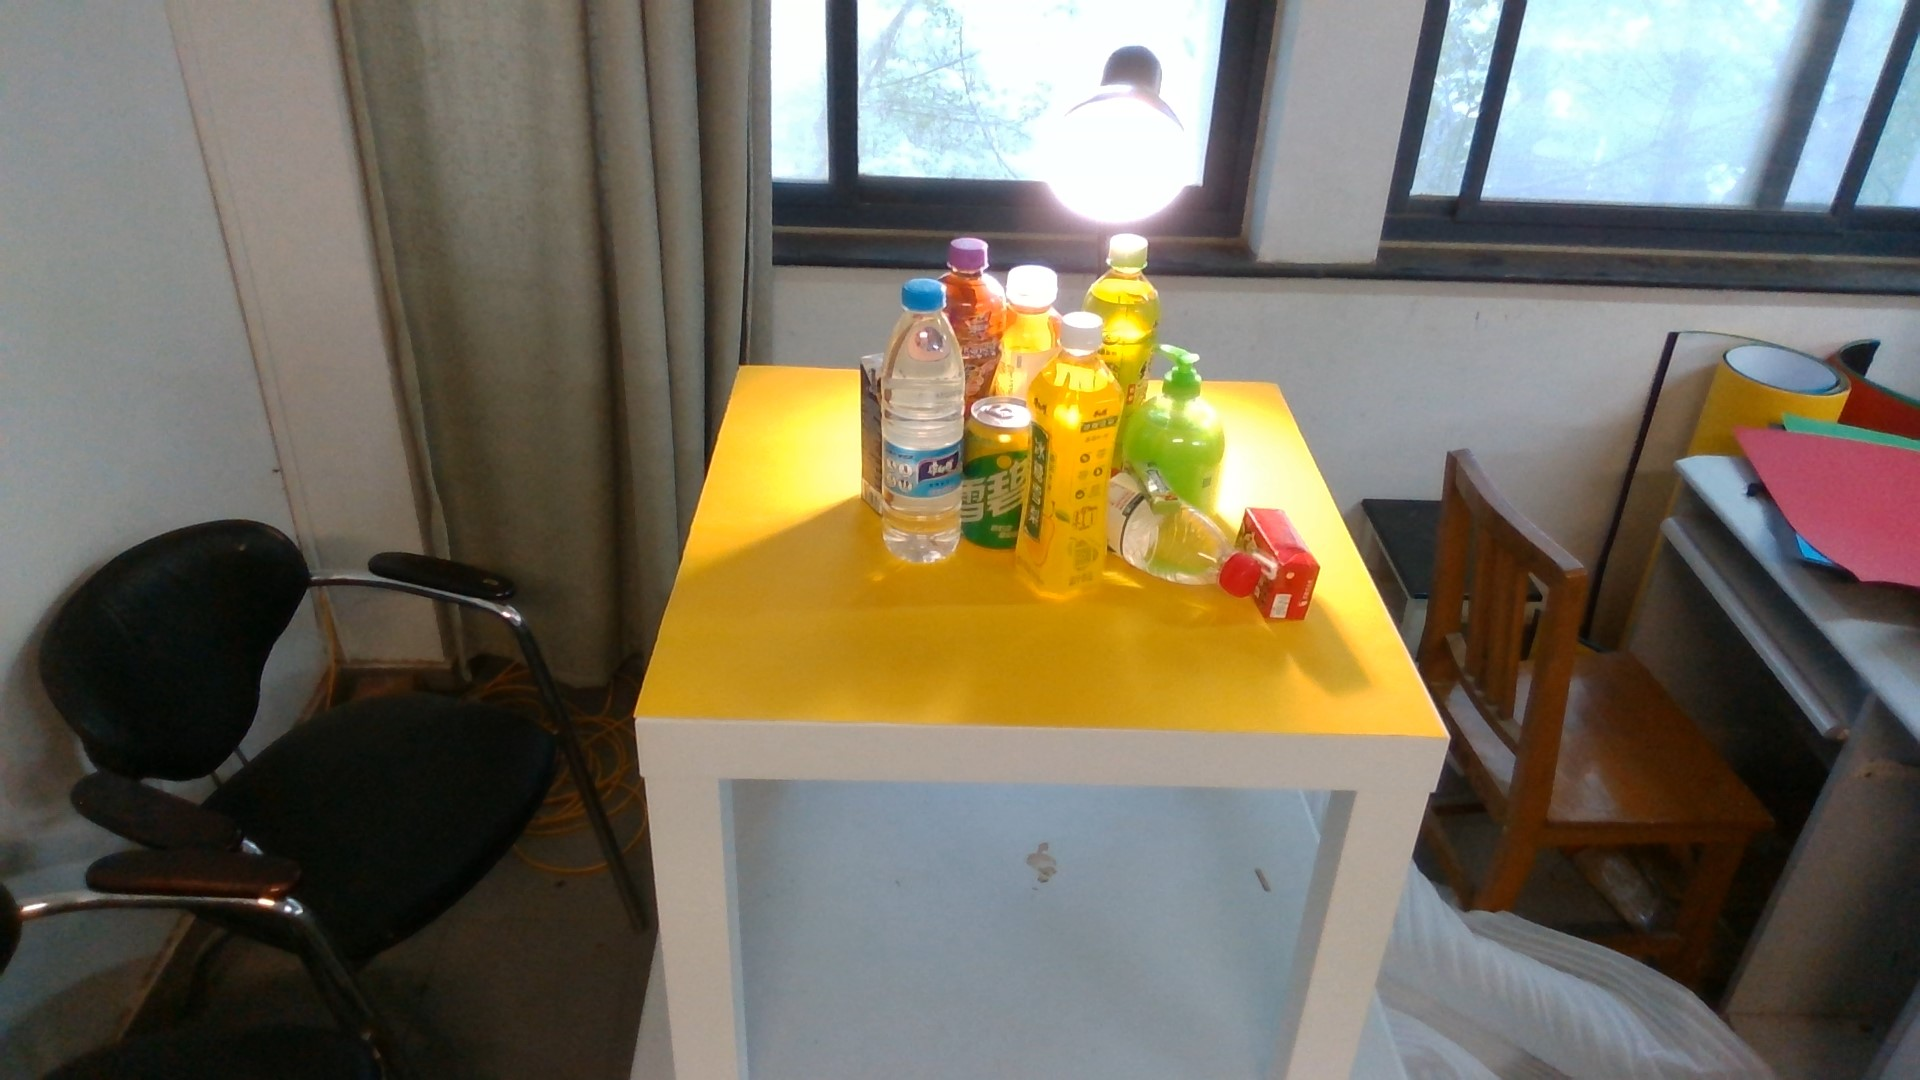BB002: (1133, 460, 1183, 520)
BB012: (1259, 505, 1316, 622), (858, 357, 884, 513)
ZA002: (1127, 385, 1226, 462)
ZC001: (969, 402, 1025, 549)
ZC009: (963, 232, 990, 392)
ZC010: (1106, 227, 1158, 375)
ZC011: (1027, 313, 1120, 603)
ZC012: (980, 260, 1040, 392)
ZC014: (1124, 517, 1258, 593)
ZC019: (882, 276, 965, 566)
